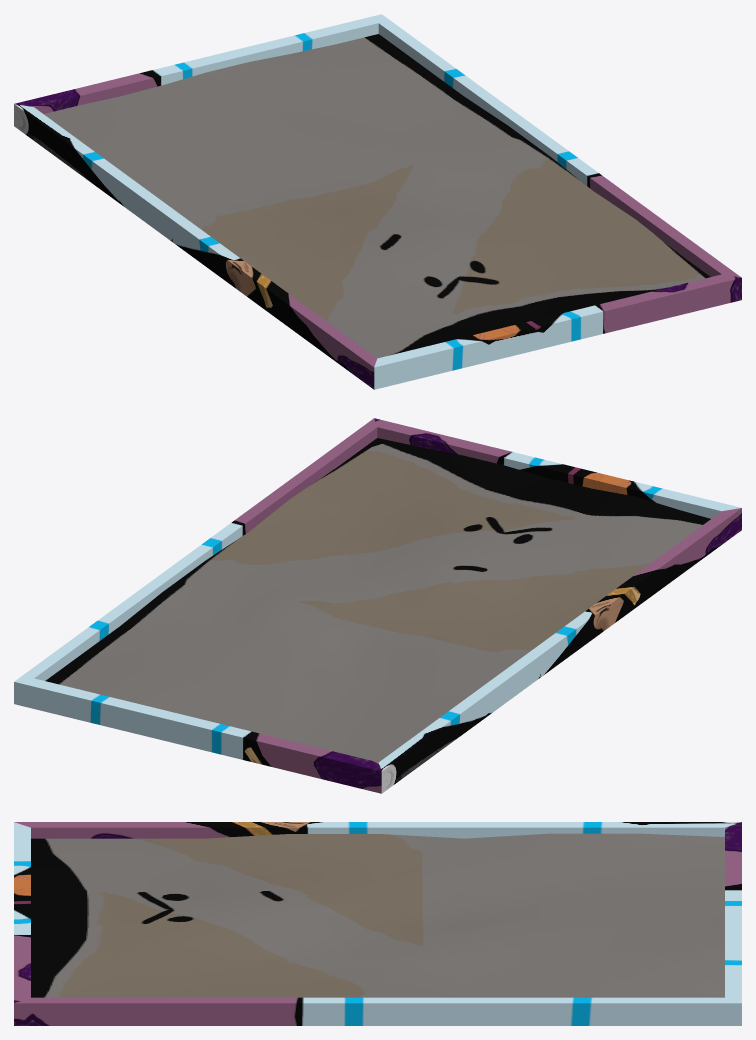
Rendered from CajaArena.fbx.
The picture shows the model from 3 angles, top to bottom: view 1: azimuth 30°, elevation 25°; view 2: azimuth 150°, elevation 25°; view 3: azimuth 270°, elevation 25°; orthographic projection.
Parts seen in each view (by area): view 1: Arenero; view 2: Arenero; view 3: Arenero.
Boxes of the visible parts, x1,y1,x2,y2 form: Arenero: [14, 14, 741, 389]; Arenero: [14, 418, 741, 793]; Arenero: [14, 822, 741, 1025].
Size of the model in its own units: 752 by 43.58 by 1275.
